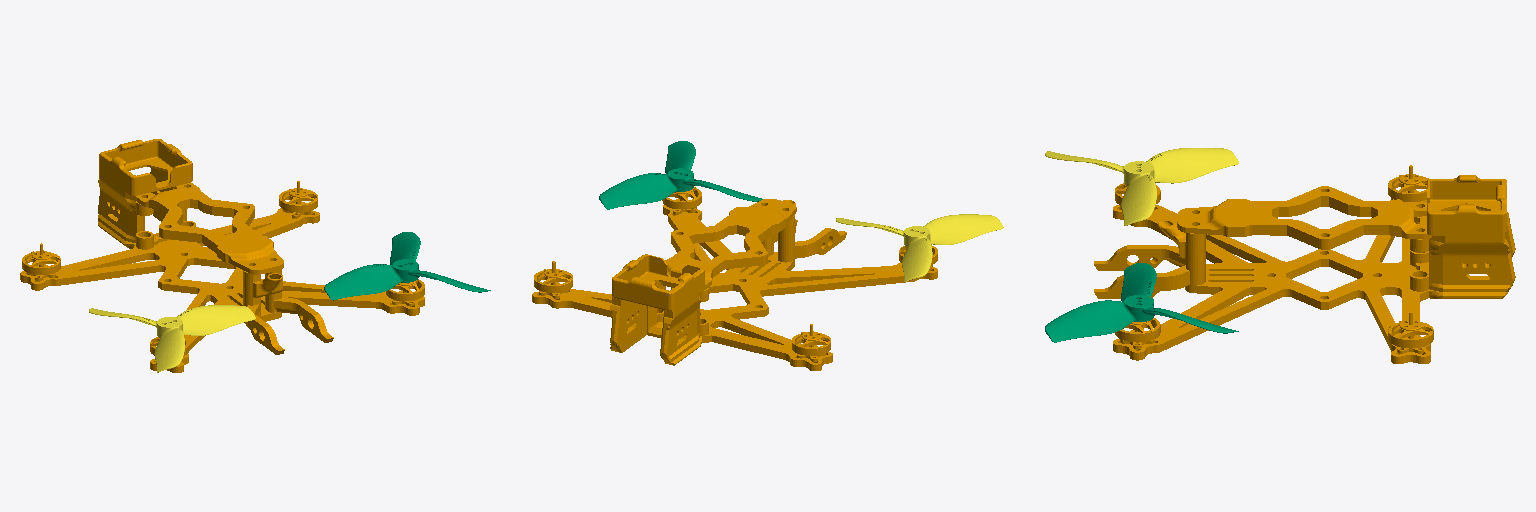
The robot description file, URDF, robot "lr_drone_urdf":
<?xml version='1.0' encoding='utf-8'?>
<robot name="lr_drone_urdf">
    <link name="frame">
        <inertial>
            <origin xyz="0.0006607868311987573 0.03173560348824097 0.010180994856171927" rpy="0.0 0.0 0.0" />
            <mass value="0.23217587194557315" />
            <inertia ixx="0.0004083852903728778" iyy="0.0001870188217089682" izz="0.000543400067180607" ixy="-2.9590098143706412e-08" iyz="-2.5468777824759497e-05" ixz="-1.3094636505331754e-07" />
        </inertial>
        <visual name="frame_visual">
            <origin xyz="0.0 0.0 0.0" rpy="0.0 0.0 0.0" />
            <geometry>
                <mesh filename="model://lr_drone_urdf/meshes/frame.stl" scale="0.001 0.001 0.001" />
            </geometry>
        </visual>
        <!-- Use a simple primitive collision for dynamic stability in Gazebo.
             The full CAD frame mesh collision is too complex / unstable for this model. -->
        <collision name="frame_collision">
            <!-- Lift the simplified collision box so its bottom sits at frame z=0 (avoid startup ground clipping). -->
            <origin xyz="0.00066 0.03174 0.0125" rpy="0.0 0.0 0.0" />
            <geometry>
                <box size="0.11 0.12 0.025" />
            </geometry>
        </collision>
    </link>
    <link name="Prop_CCW">
        <inertial>
            <origin xyz="0.0 0.0 0.0" rpy="0.0 0.0 0.0" />
            <mass value="0.012596287659474013" />
            <inertia ixx="2.0219652064262122e-06" iyy="2.019457095591482e-06" izz="3.977217320159756e-06" ixy="-1.275010200847682e-11" iyz="-9.382923209590303e-11" ixz="-5.2431809638518206e-11" />
        </inertial>
        <visual name="Prop_CCW_visual">
            <origin xyz="-1.786667014835495e-06 -2.535607082419229e-06 -0.003159470767759129" rpy="0 0 0" />
            <geometry>
                <mesh filename="model://lr_drone_urdf/meshes/Prop_CCW.stl" scale="0.001 0.001 0.001" />
            </geometry>
        </visual>
    </link>
    <!-- CW props were exported in a different CAD-local mesh frame; large X mesh offsets are intentional. -->
    <link name="Prop_CW">
        <inertial>
            <origin xyz="0.0 0.0 0.0" rpy="0.0 0.0 0.0" />
            <mass value="0.012596765270385016" />
            <inertia ixx="2.020610726494196e-06" iyy="2.0195234159707207e-06" izz="3.976305649899198e-06" ixy="2.376134787176752e-10" iyz="-1.0050622148319561e-10" ixz="6.113431965794936e-11" />
        </inertial>
        <visual name="Prop_CW_visual">
            <origin xyz="-0.09258758687542626 -1.588095178977313e-06 -0.003159652129567835" rpy="0 0 0" />
            <geometry>
                <mesh filename="model://lr_drone_urdf/meshes/Prop_CW.stl" scale="0.001 0.001 0.001" />
            </geometry>
        </visual>
    </link>
    <link name="Prop_CCW_2">
        <inertial>
            <origin xyz="0.0 0.0 0.0" rpy="0.0 0.0 0.0" />
            <mass value="0.012596287659474013" />
            <inertia ixx="2.021965206426237e-06" iyy="2.019457095591483e-06" izz="3.977217320159756e-06" ixy="-1.275010201495191e-11" iyz="-9.382923209513965e-11" ixz="-5.243180964030689e-11" />
        </inertial>
        <visual name="Prop_CCW_2_visual">
            <origin xyz="-1.786667014834537e-06 -2.535607082421665e-06 -0.003159470767759129" rpy="0 0 0" />
            <geometry>
                <mesh filename="model://lr_drone_urdf/meshes/Prop_CCW_2.stl" scale="0.001 0.001 0.001" />
            </geometry>
        </visual>
    </link>
    <!-- CW props were exported in a different CAD-local mesh frame; large X mesh offsets are intentional. -->
    <link name="Prop_CW_2">
        <inertial>
            <origin xyz="0.0 0.0 0.0" rpy="0.0 0.0 0.0" />
            <mass value="0.012596765270385016" />
            <inertia ixx="2.020610726494186e-06" iyy="2.019523415970403e-06" izz="3.976305649898883e-06" ixy="2.376134787176749e-10" iyz="-1.0050622148591066e-10" ixz="6.113431965797645e-11" />
        </inertial>
        <visual name="Prop_CW_2_visual">
            <origin xyz="-0.09258758687542626 -1.588095178972589e-06 -0.003159652129567827" rpy="0 0 0" />
            <geometry>
                <mesh filename="model://lr_drone_urdf/meshes/Prop_CW_2.stl" scale="0.001 0.001 0.001" />
            </geometry>
        </visual>
    </link>

    <!--
      Prop-to-frame preview joints.
      In the Gazebo preview URDF we keep props fixed to avoid URDF-conversion / physics jitter.
      Joint origins are the motor hub centers in the frame link coordinate system.
      Update `lr_drone_alignment.yaml` + run the generator script to keep URDF/SDF variants in sync.
    -->

    <!-- Front-right motor: Prop_CCW -->
    <joint name="prop_ccw_fr_joint" type="fixed">
        <parent link="frame" />
        <child link="Prop_CCW" />
        <origin xyz="0.061 0.059 0.016" rpy="0 0 0" />
    </joint>

    <!-- Back-left motor: Prop_CCW_2 -->
    <joint name="prop_ccw_2_bl_joint" type="fixed">
        <parent link="frame" />
        <child link="Prop_CCW_2" />
        <origin xyz="-0.054 -0.036 0.016" rpy="0 0 0" />
    </joint>

    <!-- Back-right motor: Prop_CW -->
    <joint name="prop_cw_br_joint" type="fixed">
        <parent link="frame" />
        <child link="Prop_CW" />
        <origin xyz="0.056 -0.036 0.016" rpy="0 0 0" />
    </joint>

    <!-- Front-left motor: Prop_CW_2 -->
    <joint name="prop_cw_2_fl_joint" type="fixed">
        <parent link="frame" />
        <child link="Prop_CW_2" />
        <origin xyz="-0.059 0.059 0.016" rpy="0 0 0" />
    </joint>

</robot>

--- Render facts (derived) ---
The picture shows the robot from 3 angles, left to right: view 1: azimuth 30°, elevation 25°; view 2: azimuth 150°, elevation 25°; view 3: azimuth 270°, elevation 25°; orthographic projection.
Robot: lr_drone_urdf — 5 links, 4 joints (4 fixed); root link frame; default pose: all joints at 0.
Links seen in each view (by area): view 1: frame, Prop_CW, Prop_CCW_2; view 2: frame, Prop_CW, Prop_CCW_2; view 3: frame, Prop_CW, Prop_CCW_2.
Boxes of the visible links, <box> form: frame: <box>20,139,424,372</box>; Prop_CW: <box>324,232,490,300</box>; Prop_CCW_2: <box>89,305,255,372</box>; frame: <box>532,187,937,370</box>; Prop_CW: <box>599,141,762,209</box>; Prop_CCW_2: <box>836,214,1003,281</box>; frame: <box>1094,165,1515,363</box>; Prop_CW: <box>1045,263,1238,342</box>; Prop_CCW_2: <box>1045,148,1238,225</box>.
Size in the robot's own frame: 0.1559 by 0.1637 by 0.0355 metres.
3 mesh visuals loaded from 5 distinct referenced files (3 binary STL); not drawn: 2 (reference not matched to a file when rendering).
